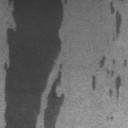red iron: (4, 0, 67, 128), (106, 70, 122, 98), (110, 2, 122, 34), (99, 56, 106, 68), (92, 76, 96, 90), (112, 59, 115, 64), (124, 60, 126, 66)
